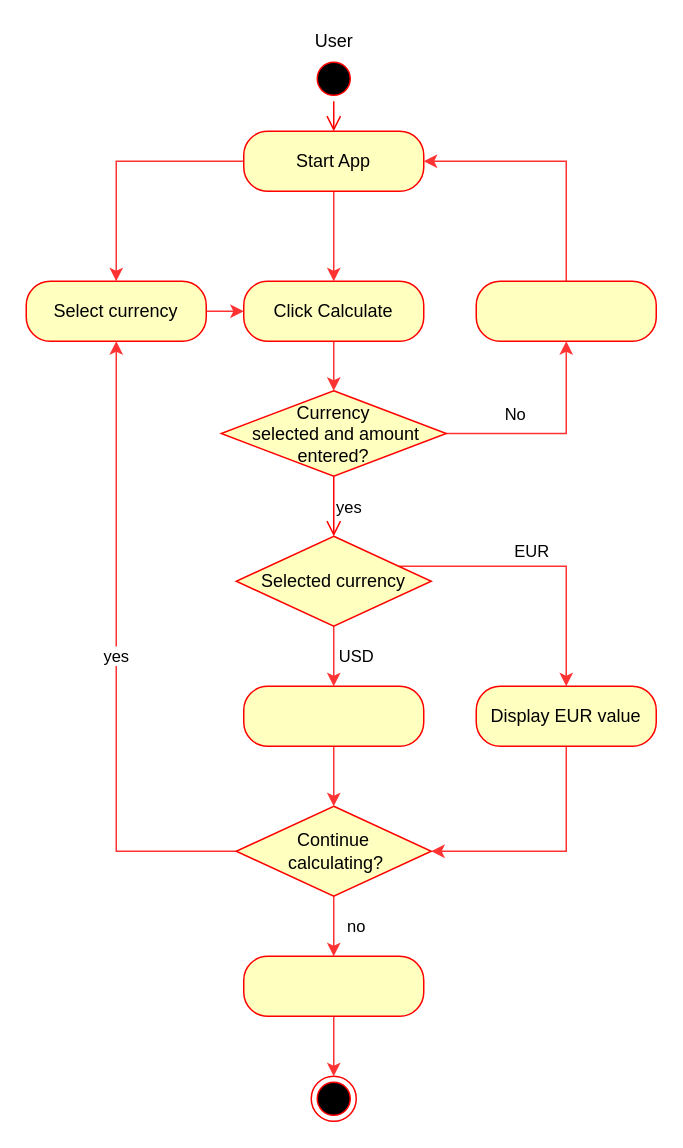
The diagram is 683 pixels wide and 1148 high, and some of its shapes have lost their labels. The shapes that lost their labels are listed below. From the top down, each one's centre as x and y in pixels, then its label:
At (565,310): "Throw exception".
At (333,715): "Display USD value".
At (333,985): "Close App".
